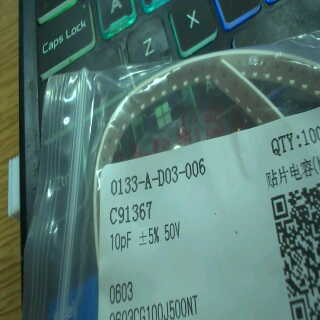10pF: (106, 227, 138, 251)
